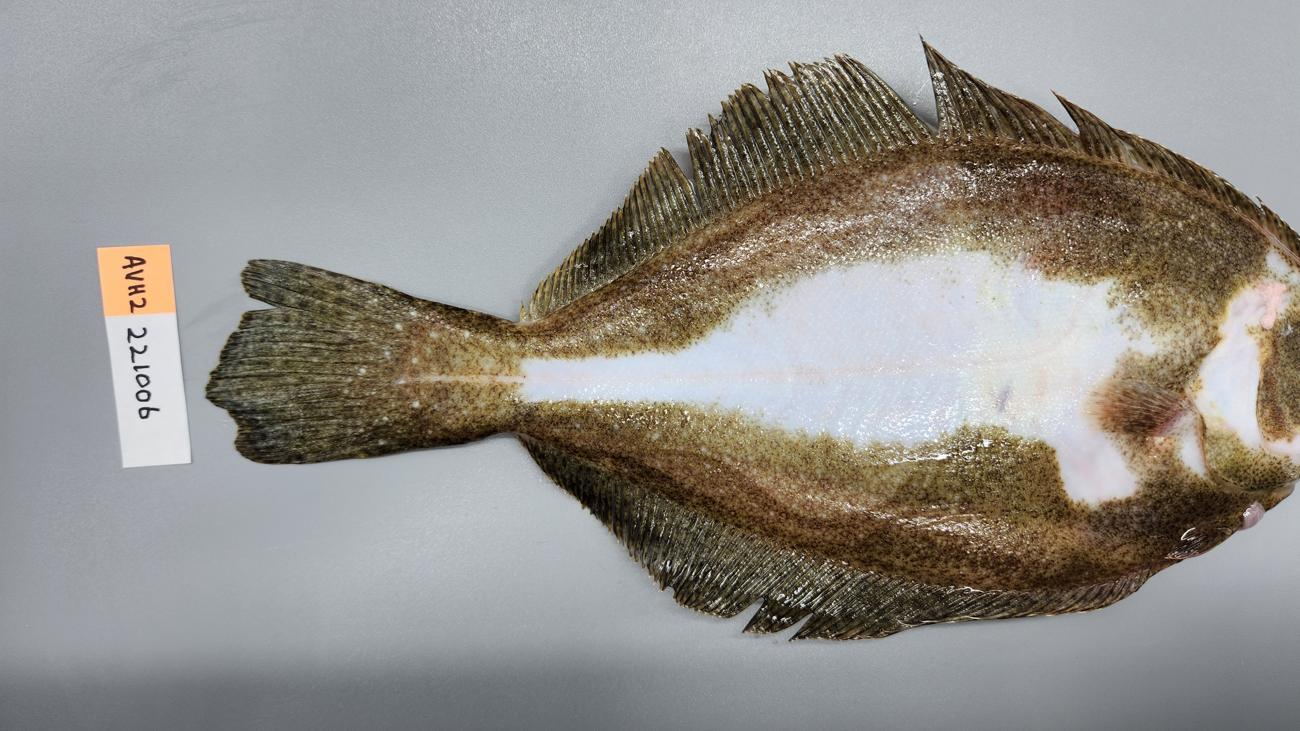VIDYH: (699, 138, 1127, 277), (399, 273, 695, 373), (1055, 375, 1198, 509), (1247, 273, 1292, 441), (1029, 247, 1075, 282)
